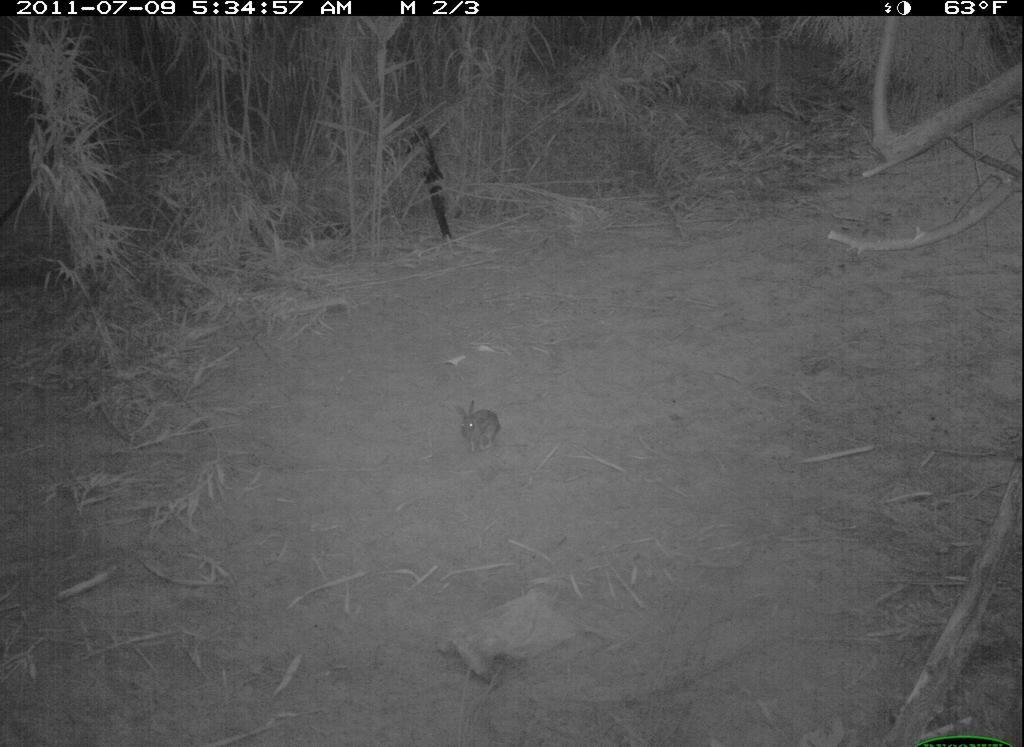rabbit: (451, 396, 509, 456)
